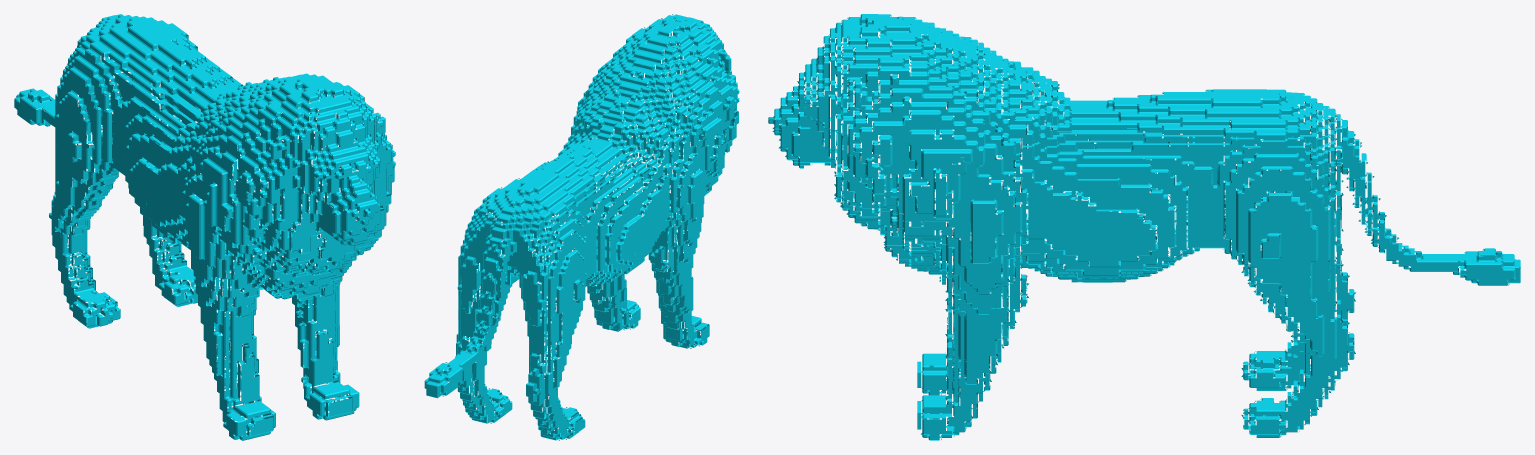
Rendered from lion.glb.
3 views of the same model, side by side, from view 1: azimuth 30°, elevation 25°; view 2: azimuth 150°, elevation 25°; view 3: azimuth 270°, elevation 25° (orthographic). The views are drawn at different scales.
Visible parts, largest first — view 1: lion__11506_Lion_v3_FINALdefault_0.001; view 2: lion__11506_Lion_v3_FINALdefault_0.001; view 3: lion__11506_Lion_v3_FINALdefault_0.001.
Part boxes in pixels (box(x1,y1,x2,y2)): lion__11506_Lion_v3_FINALdefault_0.001: box(14, 14, 395, 440); lion__11506_Lion_v3_FINALdefault_0.001: box(424, 14, 739, 440); lion__11506_Lion_v3_FINALdefault_0.001: box(768, 14, 1520, 440).
Bounding box in the file's own units: 19.44 × 40.24 × 70.49.
